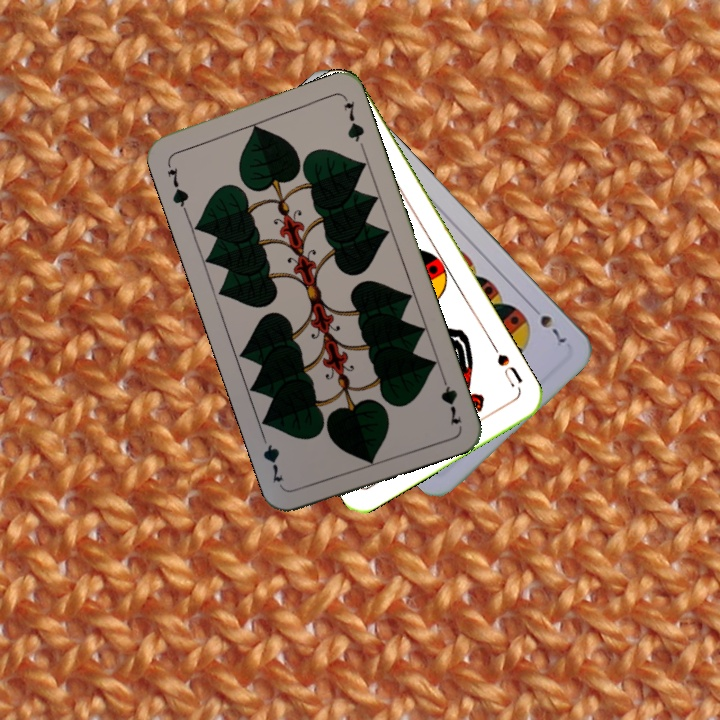G7: (162, 157, 191, 215), (436, 369, 464, 428)
S7: (526, 300, 569, 346)
SU: (488, 340, 525, 390)
